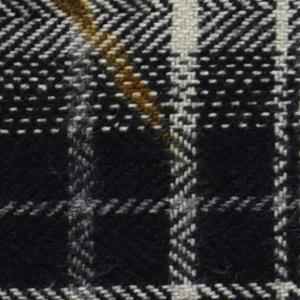Oil Stain: (49, 1, 193, 168)
